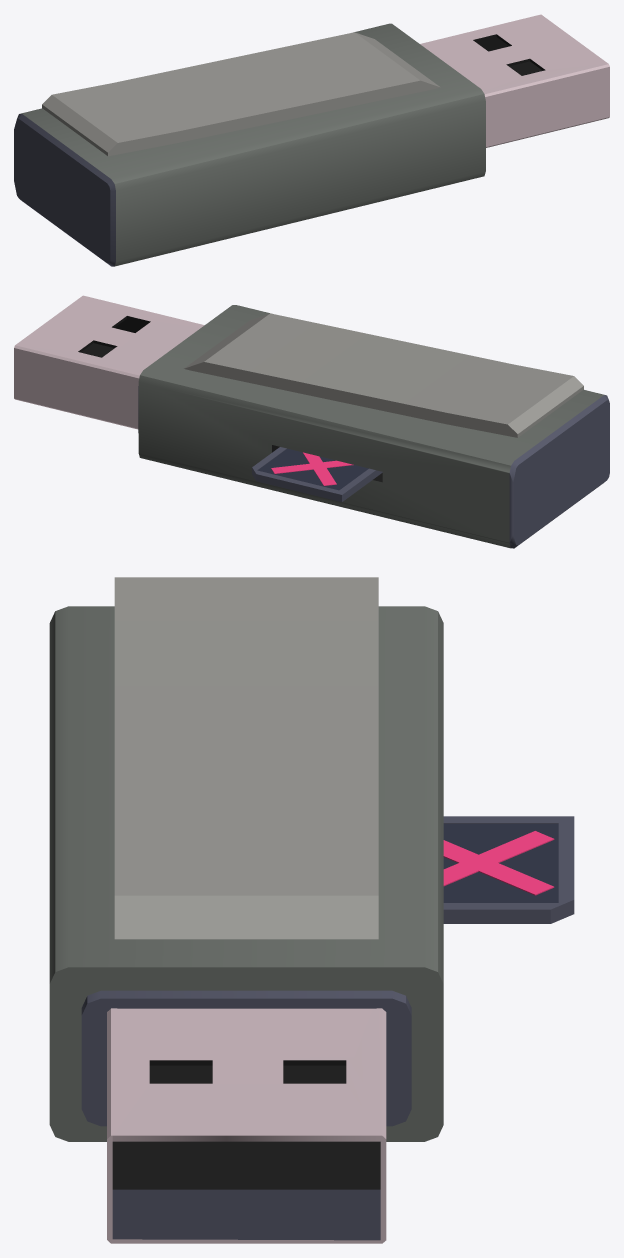
File: RandyFlashDrive.fbx
3 views of the same model, one above another, from view 1: azimuth 30°, elevation 25°; view 2: azimuth 150°, elevation 25°; view 3: azimuth 270°, elevation 25° (orthographic). The views are drawn at different scales.
Parts seen in each view (by area): view 1: Cube; view 2: Cube; view 3: Cube.
Part boxes in pixels (box(x1,y1,x2,y2)): Cube: box(14, 14, 609, 266); Cube: box(14, 295, 609, 548); Cube: box(49, 577, 574, 1243).
Size of the model in its own units: 600 by 124 by 266.
